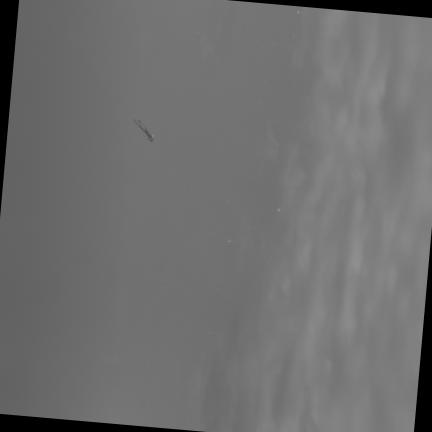Shahed: (133, 119, 153, 142)
